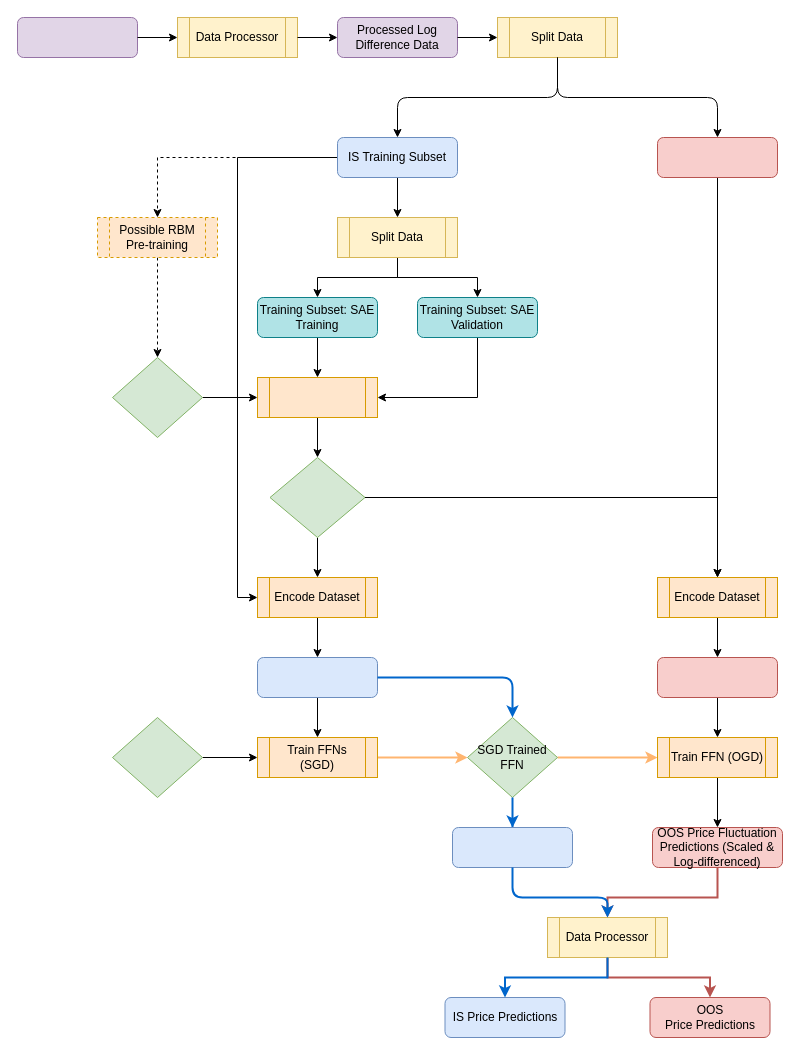
Some shapes in this 800 by 1055 pixel diagram are drawn without their labels. Each missing label, with the centre of its shape:
Best SAE Network: point (317, 497)
FFN Networks: point (157, 757)
IS Encoded Training Subset: point (317, 677)
IS Price Fluctuation Predictions (Scaled & Log-differenced): point (512, 847)
OOS Encoded Prediction Subset: point (717, 677)
OOS Prediction Subset: point (717, 157)
Raw Market Data: point (77, 37)
SAE Networks: point (157, 397)
Train SAEs (SGD): point (317, 397)
